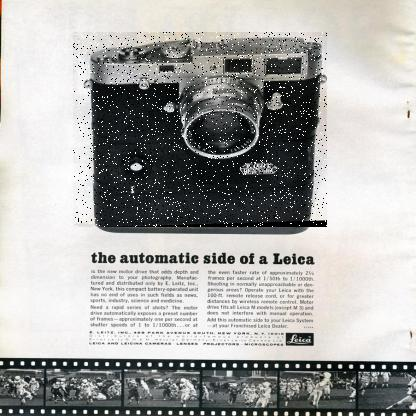Camera: (74, 34, 329, 230)
